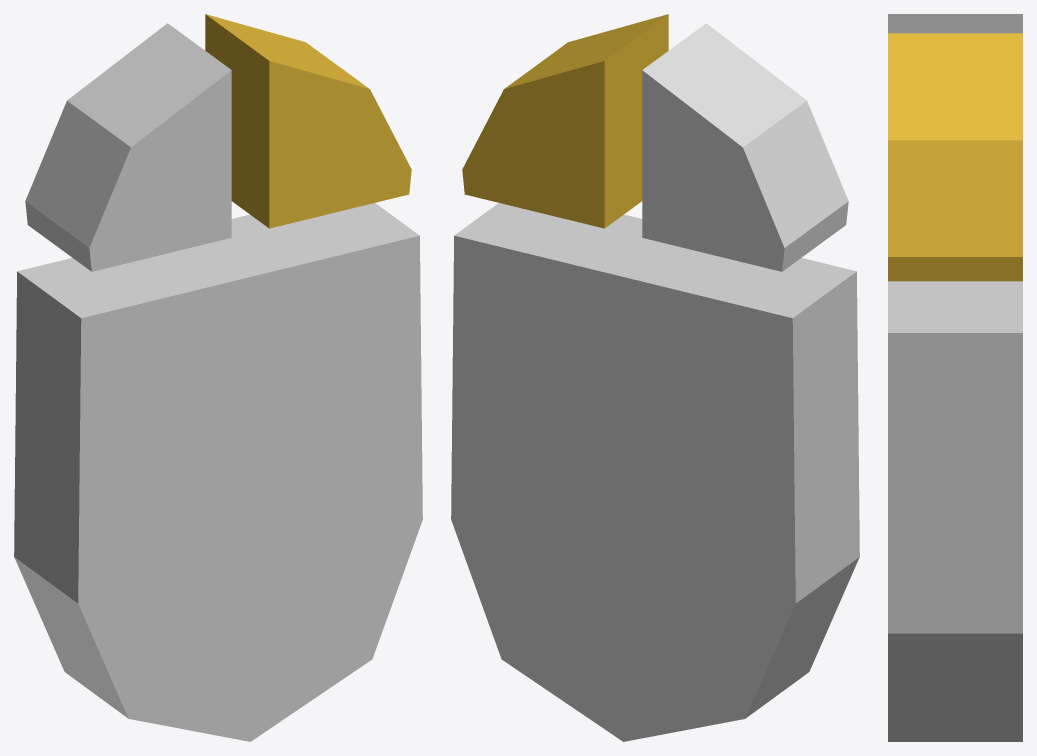
File: mouseIcon.fbx
3 views of the same model, side by side, from view 1: azimuth 30°, elevation 25°; view 2: azimuth 150°, elevation 25°; view 3: azimuth 270°, elevation 25° (orthographic). The views are drawn at different scales.
Parts seen in each view (by area): view 1: mouseIcon; view 2: mouseIcon; view 3: mouseIcon.
Part boxes in pixels (x1,y1,x2,y2): mouseIcon: (14,14,422,741); mouseIcon: (451,14,859,741); mouseIcon: (888,14,1022,741).
Size of the model in its own units: 2 by 3.75 by 0.6445.
